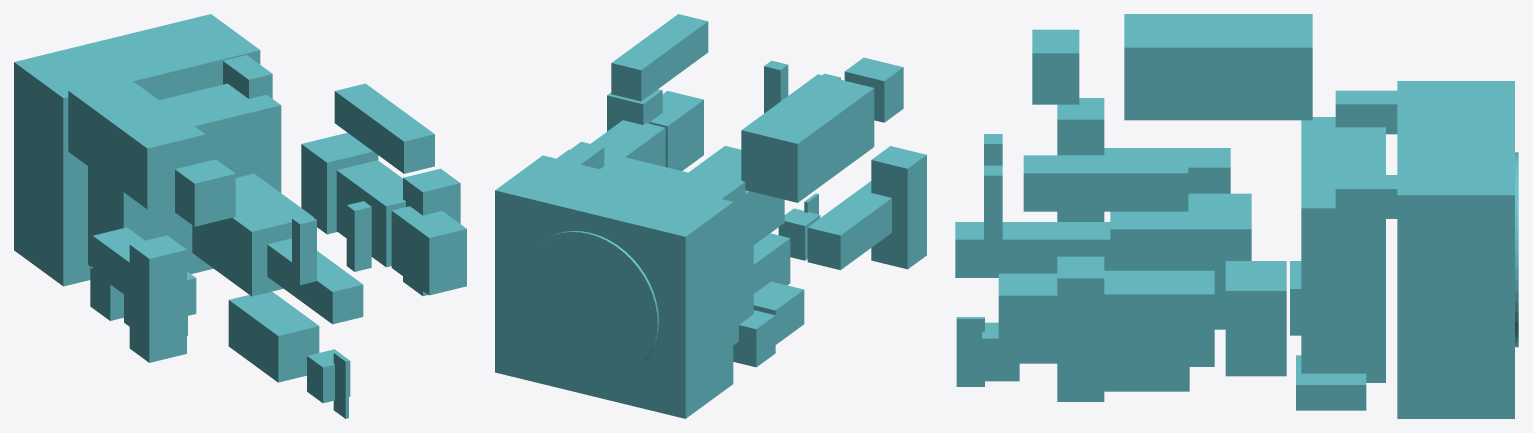
The model's file is dranmar_tumor_resection_tool_collision_debug.glb.
3 renders of one model, left to right at view 1: azimuth 30°, elevation 25°; view 2: azimuth 150°, elevation 25°; view 3: azimuth 270°, elevation 25°, orthographic. The views are drawn at different scales.
Visible parts, largest first — view 1: Mount_MountCollider, SensorTurret_SensorTurretCollider, BagDeployer_BagDeployerCollider, AspiratorCarriage_AspiratorCarriageCollider, LeftTraction_LeftTractionCollider, ScissorCarriage_ScissorCarriageCollider, UltrasoundCompliance_UltrasoundComplianceCollider, MarginMarker_MarginMarkerCollider, UltrasoundPitch_UltrasoundPitchCollider, AspiratorRotor_AspiratorRotorCollider, UltrasoundCarriage_UltrasoundCarriageCollider, BagClosure_BagClosureCollider (+8 smaller); view 2: Mount_MountCollider, Mount_MountRingCollider, BagDeployer_BagDeployerCollider, LeftTraction_LeftTractionCollider, MarginMarker_MarginMarkerCollider, RamanProbe_RamanProbeCollider, SensorTurret_SensorTurretCollider, UltrasoundCompliance_UltrasoundComplianceCollider, AspiratorCarriage_AspiratorCarriageCollider, BagClosure_BagClosureCollider, UltrasoundPitch_UltrasoundPitchCollider, OCTScannerY_OCTScannerYCollider (+7 smaller); view 3: Mount_MountCollider, BagDeployer_BagDeployerCollider, SensorTurret_SensorTurretCollider, UltrasoundPitch_UltrasoundPitchCollider, AspiratorCarriage_AspiratorCarriageCollider, MarginMarker_MarginMarkerCollider, UltrasoundCarriage_UltrasoundCarriageCollider, AspiratorRotor_AspiratorRotorCollider, RightTraction_RightTractionCollider, UltrasoundCompliance_UltrasoundComplianceCollider, BagClosure_BagClosureCollider, LeftTraction_LeftTractionCollider (+11 smaller).
Part boxes in pixels (box(x1,y1,x2,y2)): Mount_MountCollider: box(14, 14, 260, 286); SensorTurret_SensorTurretCollider: box(88, 83, 281, 273); BagDeployer_BagDeployerCollider: box(68, 76, 205, 209); AspiratorCarriage_AspiratorCarriageCollider: box(192, 173, 313, 296); LeftTraction_LeftTractionCollider: box(129, 235, 186, 362); ScissorCarriage_ScissorCarriageCollider: box(228, 291, 319, 382); UltrasoundCompliance_UltrasoundComplianceCollider: box(391, 206, 466, 295); MarginMarker_MarginMarkerCollider: box(334, 83, 434, 173); UltrasoundPitch_UltrasoundPitchCollider: box(336, 160, 405, 267); AspiratorRotor_AspiratorRotorCollider: box(267, 238, 363, 324); UltrasoundCarriage_UltrasoundCarriageCollider: box(301, 132, 378, 234); BagClosure_BagClosureCollider: box(175, 159, 235, 226); Mount_MountCollider: box(495, 155, 733, 418); Mount_MountRingCollider: box(520, 231, 658, 379); BagDeployer_BagDeployerCollider: box(741, 74, 874, 202); LeftTraction_LeftTractionCollider: box(871, 146, 926, 269); MarginMarker_MarginMarkerCollider: box(611, 14, 708, 101); RamanProbe_RamanProbeCollider: box(807, 181, 891, 269); SensorTurret_SensorTurretCollider: box(600, 152, 753, 345); UltrasoundCompliance_UltrasoundComplianceCollider: box(650, 91, 703, 170); AspiratorCarriage_AspiratorCarriageCollider: box(689, 146, 784, 244); BagClosure_BagClosureCollider: box(844, 57, 903, 122); UltrasoundPitch_UltrasoundPitchCollider: box(591, 120, 665, 166); OCTScannerY_OCTScannerYCollider: box(753, 281, 804, 344); Mount_MountCollider: box(1397, 81, 1514, 418); BagDeployer_BagDeployerCollider: box(1124, 14, 1312, 120); SensorTurret_SensorTurretCollider: box(1301, 117, 1385, 382); UltrasoundPitch_UltrasoundPitchCollider: box(1104, 270, 1214, 366); AspiratorCarriage_AspiratorCarriageCollider: box(1110, 193, 1251, 306); MarginMarker_MarginMarkerCollider: box(1023, 155, 1188, 211); UltrasoundCarriage_UltrasoundCarriageCollider: box(1225, 261, 1286, 376); AspiratorRotor_AspiratorRotorCollider: box(955, 222, 1110, 277); RightTraction_RightTractionCollider: box(1057, 256, 1104, 401); UltrasoundCompliance_UltrasoundComplianceCollider: box(998, 273, 1057, 363); BagClosure_BagClosureCollider: box(1032, 29, 1079, 104); LeftTraction_LeftTractionCollider: box(1057, 98, 1104, 221).
Bounding box in the file's own units: 0.1707 × 0.131 × 0.2253.
